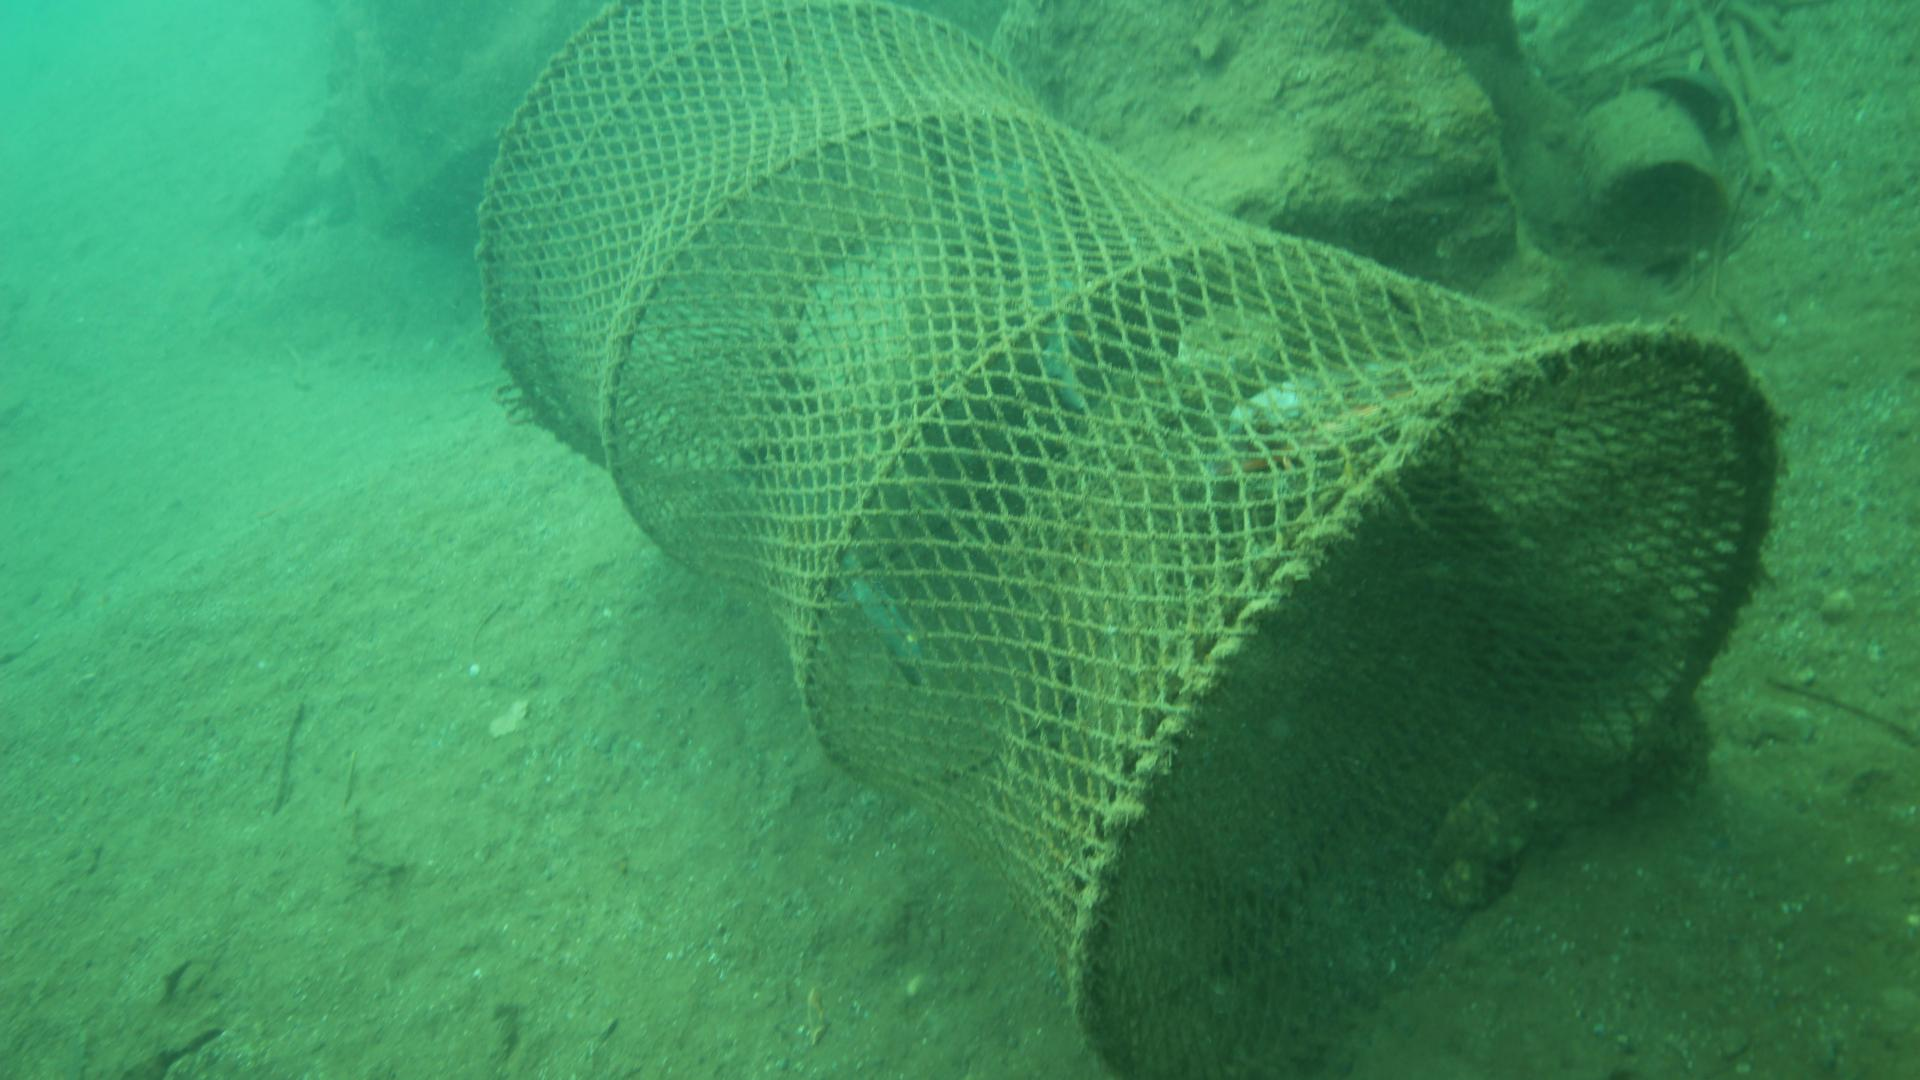spring fish trap: (469, 0, 1792, 1080)
